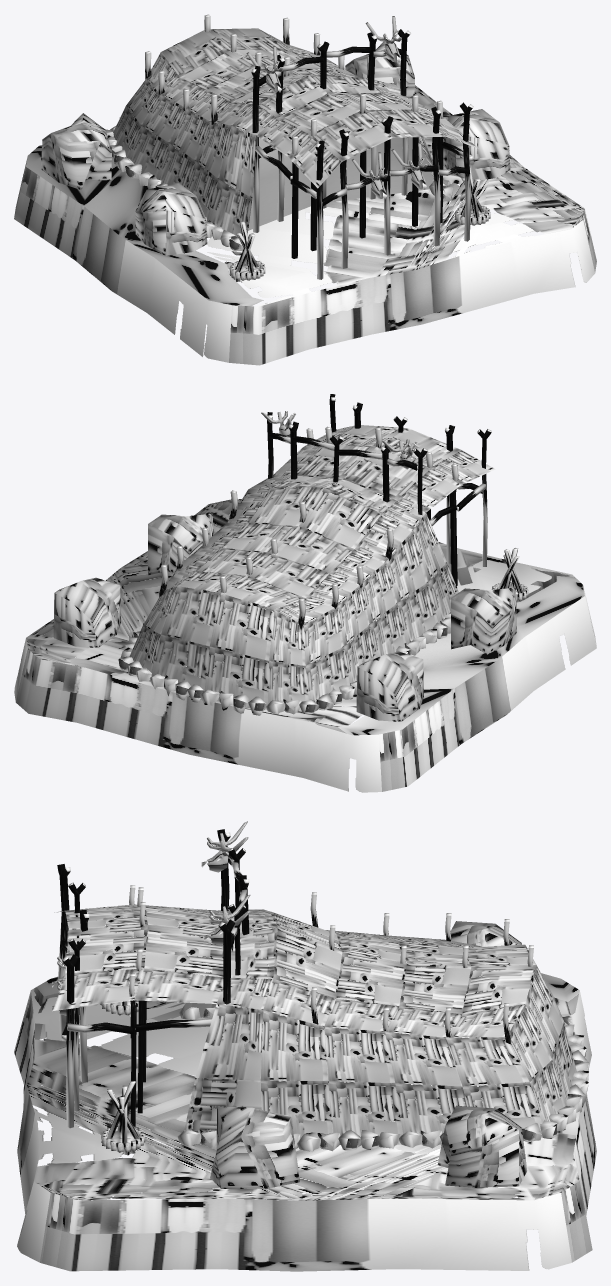
Rendered from temple.dae.
The picture shows the model from 3 angles, top to bottom: view 1: azimuth 30°, elevation 25°; view 2: azimuth 150°, elevation 25°; view 3: azimuth 270°, elevation 25°; orthographic projection. The views are drawn at different scales.
Visible parts, largest first — view 1: temple; view 2: temple; view 3: temple.
Part boxes in pixels (bbox=[...]): temple: bbox=[14, 14, 596, 365]; temple: bbox=[14, 394, 596, 792]; temple: bbox=[14, 821, 596, 1271].
Bounding box in the file's own units: 24.98 × 25.55 × 13.57.
